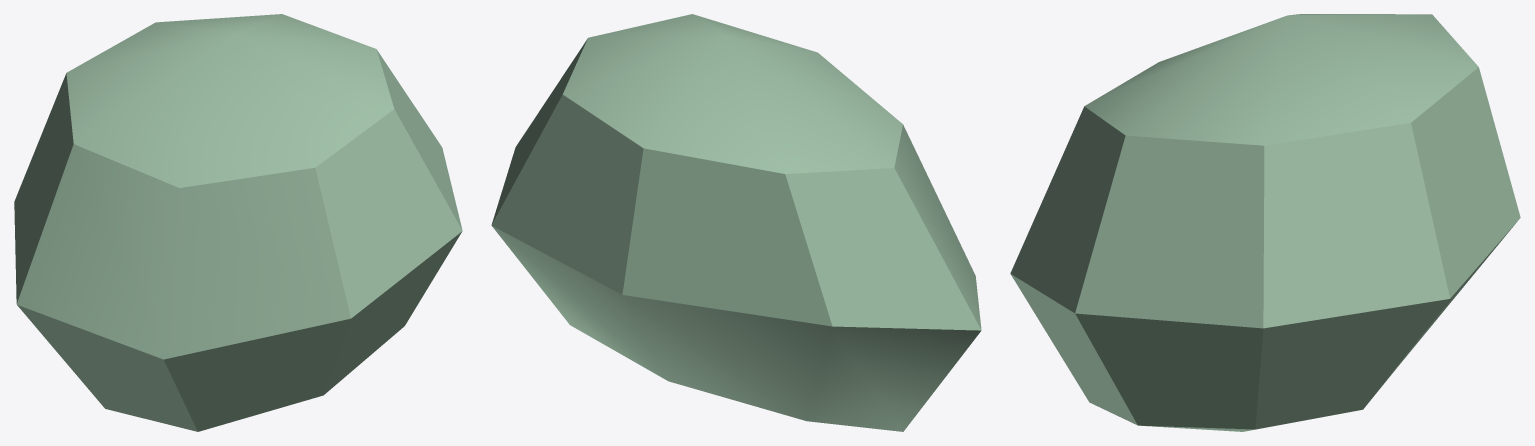
The model's file is BushC.fbx.
3 views of the same model, side by side, from view 1: azimuth 30°, elevation 25°; view 2: azimuth 150°, elevation 25°; view 3: azimuth 270°, elevation 25° (orthographic). The views are drawn at different scales.
Visible parts, largest first — view 1: Tree_New; view 2: Tree_New; view 3: Tree_New.
Boxes of the visible parts, x1,y1,x2,y2 form: Tree_New: [14, 14, 462, 431]; Tree_New: [491, 14, 981, 431]; Tree_New: [1010, 14, 1520, 431].
Bounding box in the file's own units: 86.44 × 64.83 × 72.53.
